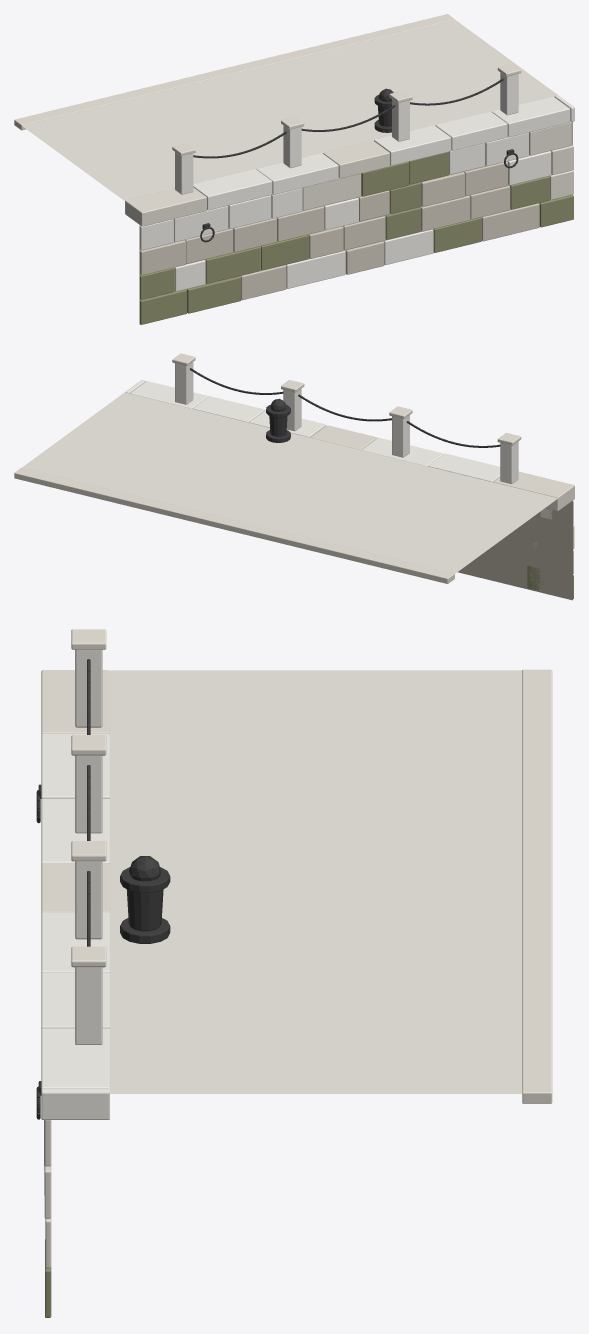
Rendered from QuayWall.fbx.
3 views of the same model, one above another, from view 1: azimuth 30°, elevation 25°; view 2: azimuth 150°, elevation 25°; view 3: azimuth 270°, elevation 25° (orthographic). The views are drawn at different scales.
Visible parts, largest first — view 1: QuayWall; view 2: QuayWall; view 3: QuayWall.
Boxes of the visible parts, x1,y1,x2,y2 form: QuayWall: (14,14,574,324); QuayWall: (14,353,574,600); QuayWall: (36,629,552,1317).
Size of the model in its own units: 8 by 2.76 by 4.12.
